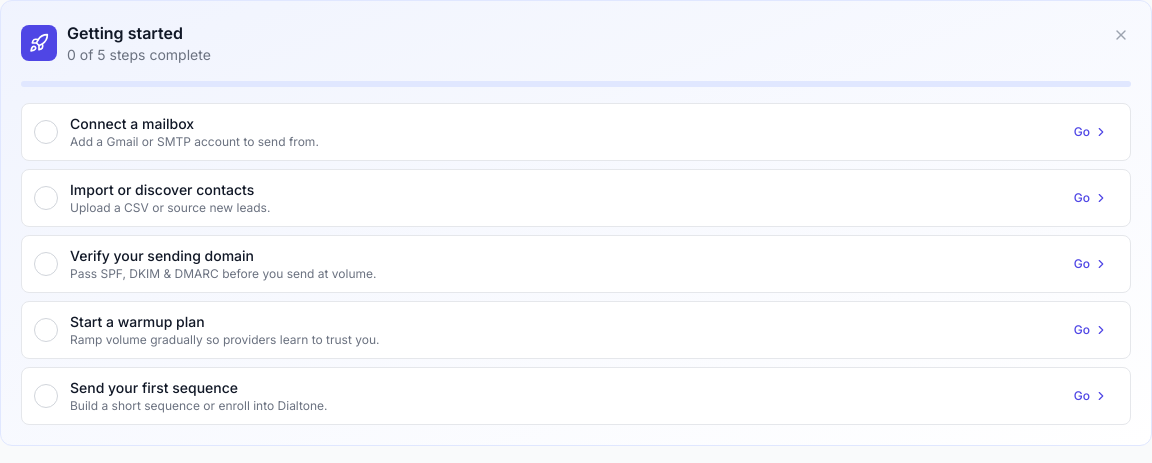
Test case: GettingStarted › shows a done state once every step is checked
Step 1. Click the button named "Mark \"Connect a mailbox\" done" → coordinates (46, 132), box [34, 120, 58, 144]
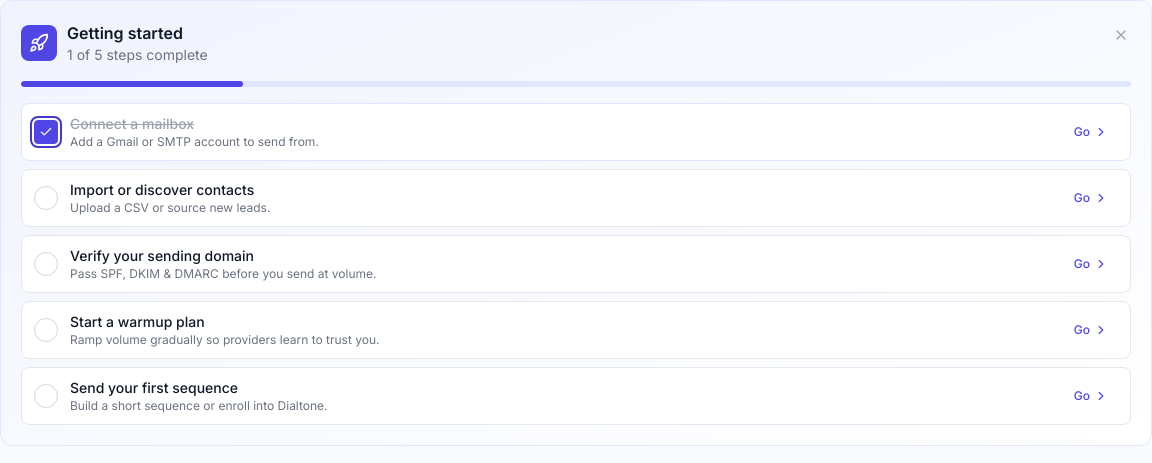
Step 2. Click the button named "Mark \"Import or discover contacts\" done" → coordinates (46, 198), box [34, 186, 58, 210]
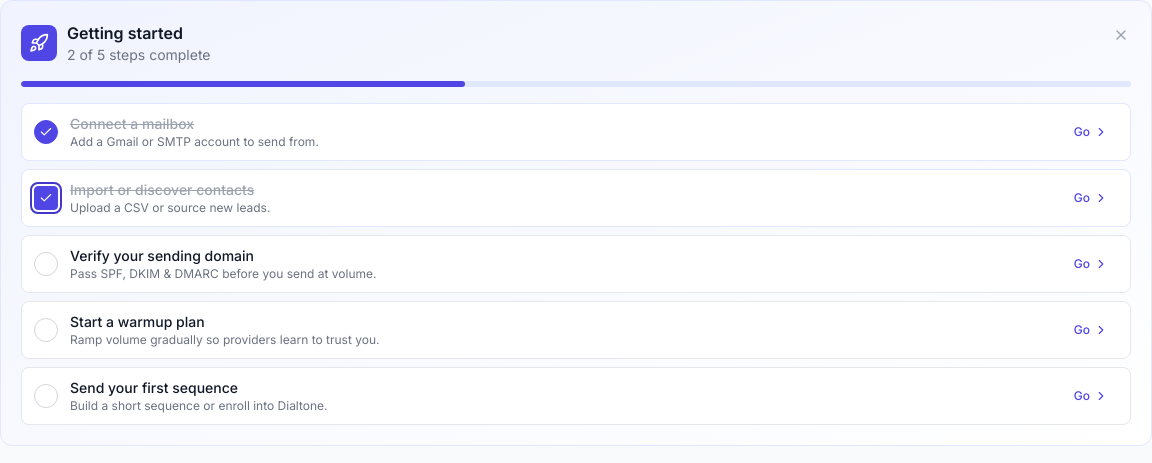
Step 3. Click the button named "Mark \"Verify your sending domain\" done" → coordinates (46, 264), box [34, 252, 58, 276]
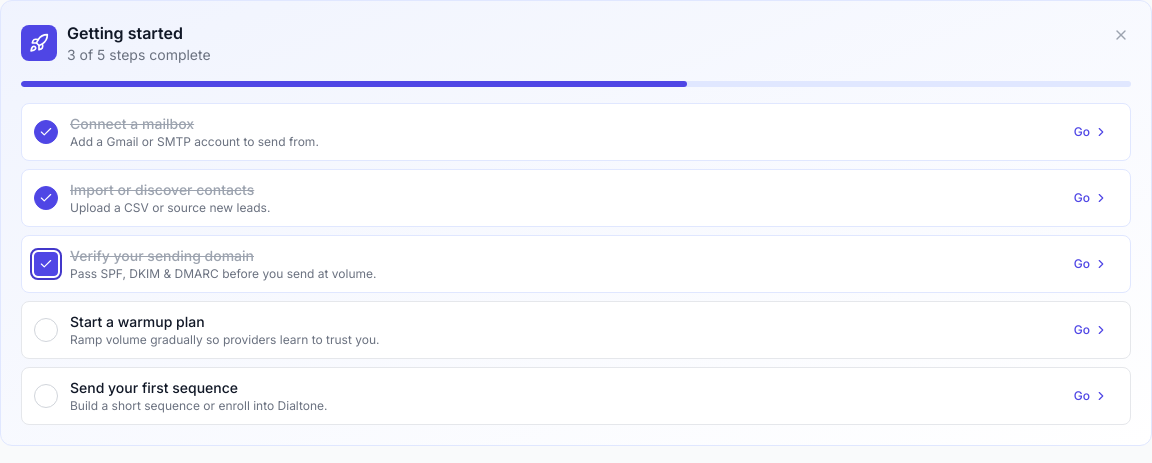
Step 4. Click the button named "Mark \"Start a warmup plan\" done" → coordinates (46, 330), box [34, 318, 58, 342]
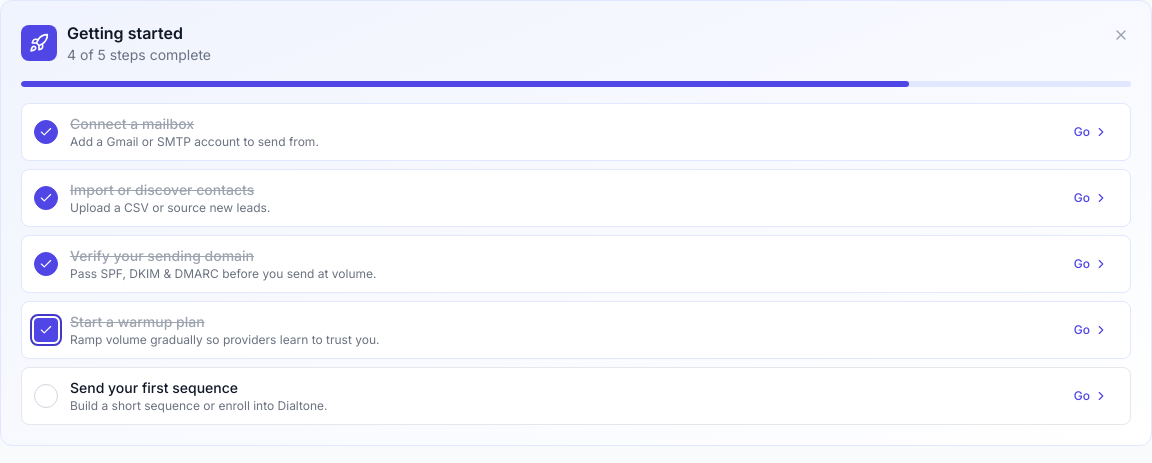
Step 5. Click the button named "Mark \"Send your first sequence\" done" → coordinates (46, 396), box [34, 384, 58, 408]
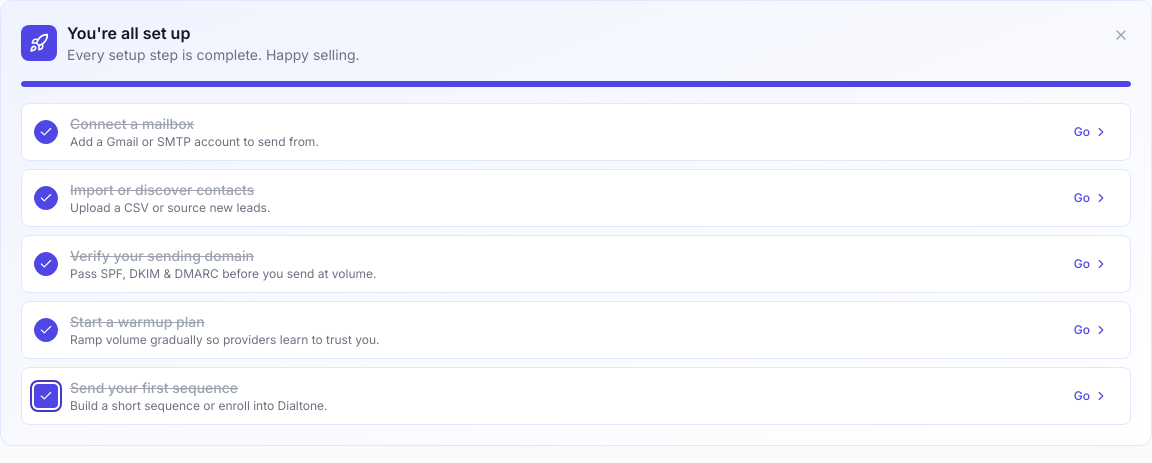
Check: the heading "You're all set up" is shown, box [67, 23, 190, 43]
